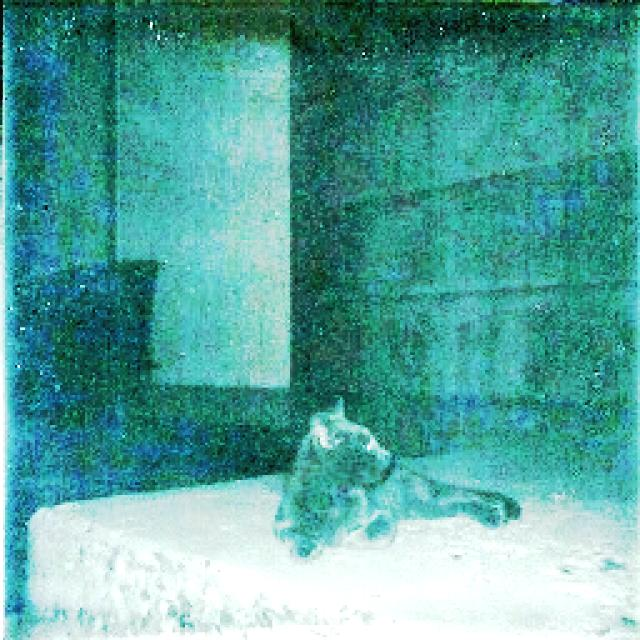cat: (276, 392, 523, 565)
